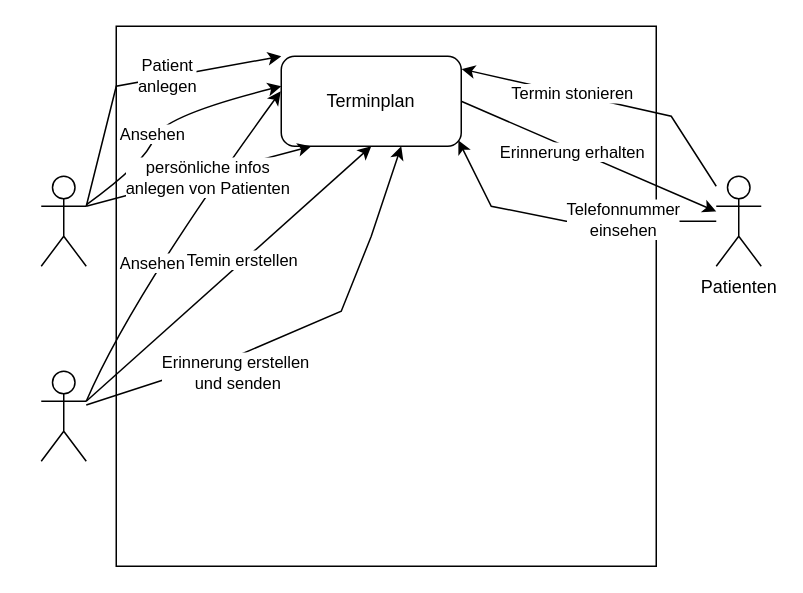
Some shapes in this 803 by 593 pixel diagram are drawn without their labels. The shapes that lost their labels are listed below. From the top down, each one's centre as x and y in pixels, then its label:
At (63,220): "Ärzte".
At (63,415): "Arzthelfer".
